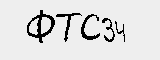З: (102, 17, 115, 48)
С: (81, 12, 102, 45)
Т: (53, 10, 83, 46)
Ф: (25, 6, 54, 49)
Ч: (112, 18, 130, 45)
